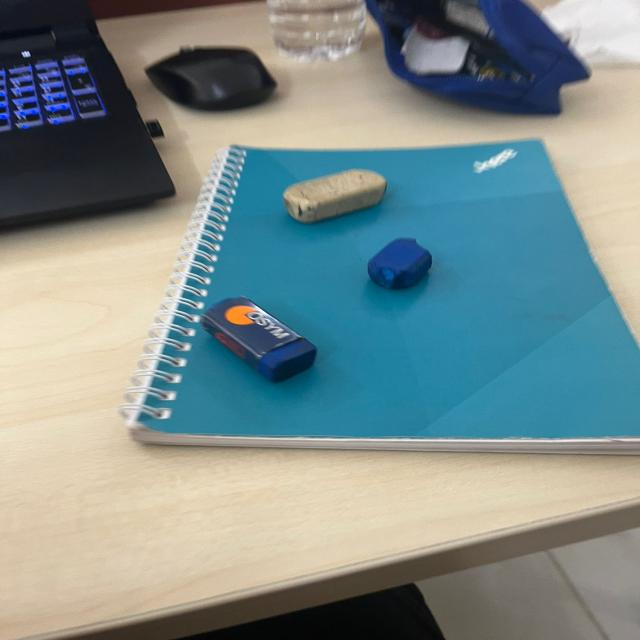eraser: (190, 289, 325, 384), (274, 161, 405, 222), (357, 222, 451, 294)
